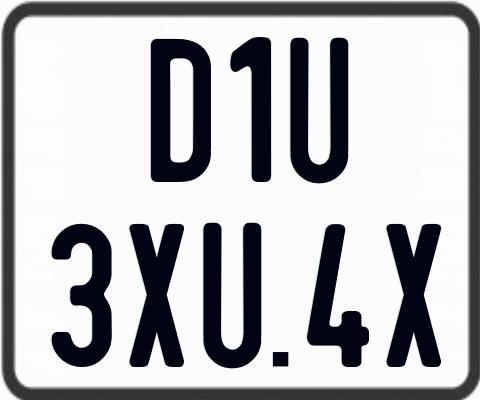1: (227, 34, 271, 183)
3: (52, 224, 115, 371)
4: (307, 222, 373, 365)
D: (148, 38, 208, 182)
U: (201, 222, 264, 373), (290, 35, 351, 182)
X: (129, 224, 186, 372), (384, 222, 439, 365)
